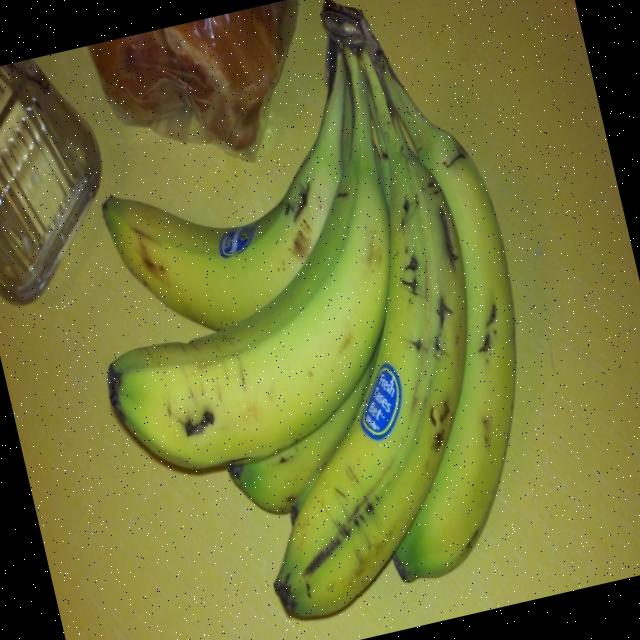banana: (118, 52, 390, 473)
